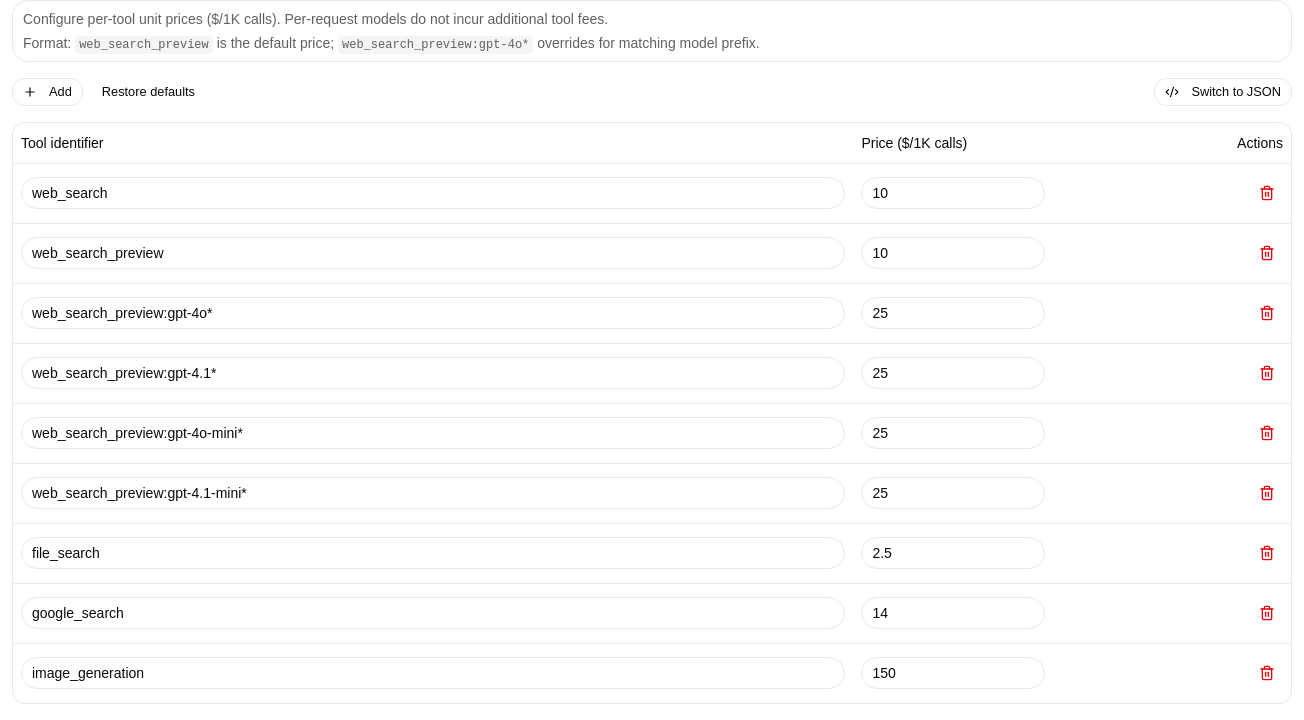
Test: tool price validation › blocks an empty price without converting it to an explicit zero
The image size is (1304, 720).
Step 1. Clear the number field named "Price ($/1K calls): web_search" → (953, 193), box [861,177,1045,209]
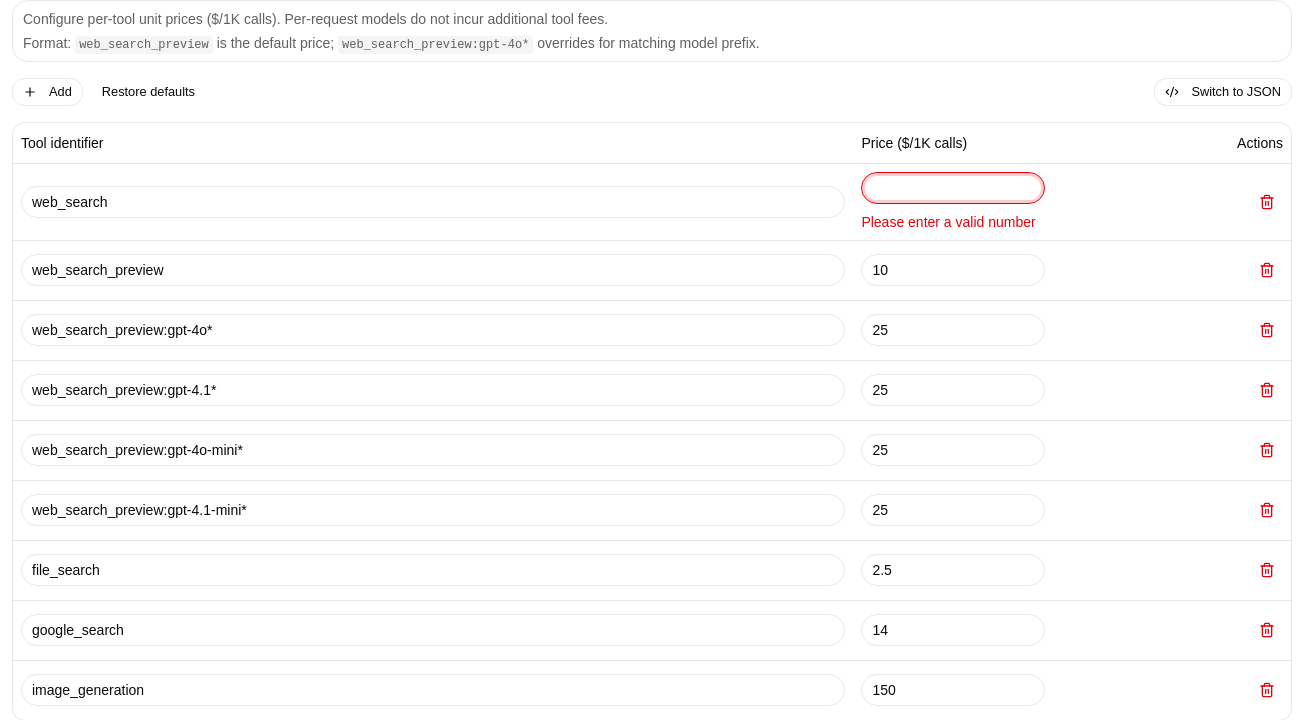
Expected: the text "Please enter a valid number" is shown, [861,212,1045,232]
Step 2. Type "0" into the number field named "Price ($/1K calls): web_search" → (953, 188), box [861,172,1045,204]
(page scrolled)
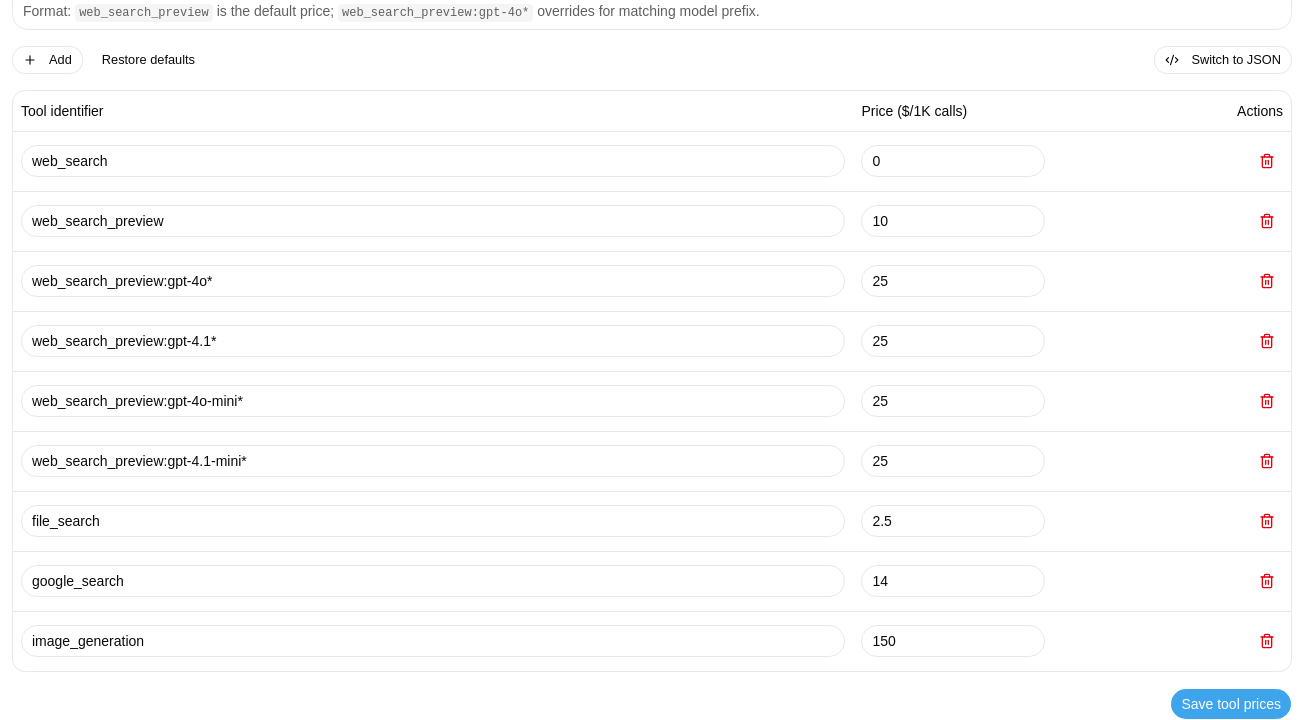
Expected: the button "Save tool prices" is enabled, [1170,688,1292,719]
